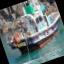fishing boat: (3, 0, 64, 59)
